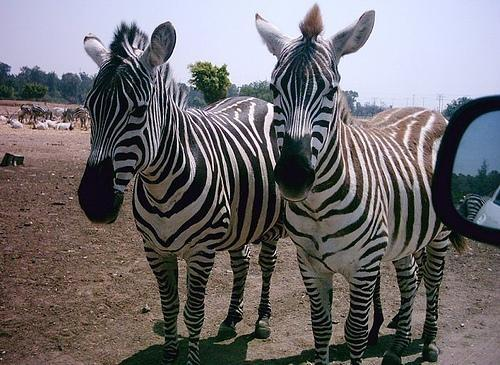car: (473, 186, 500, 232)
